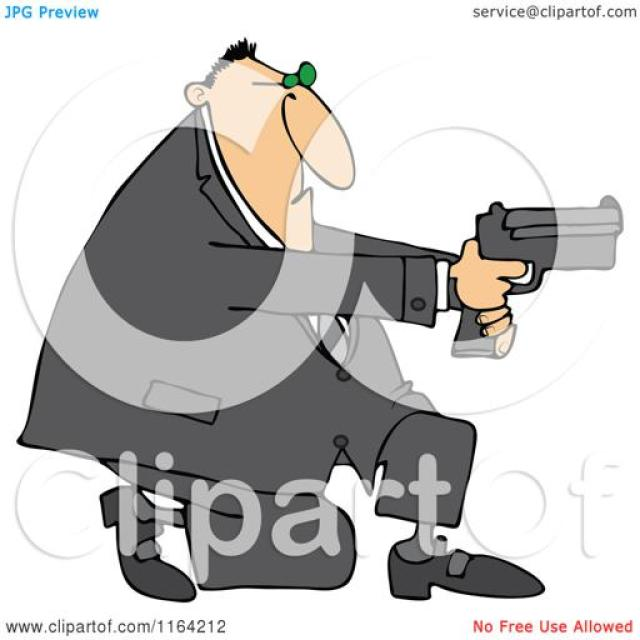pistol: (451, 191, 625, 357)
